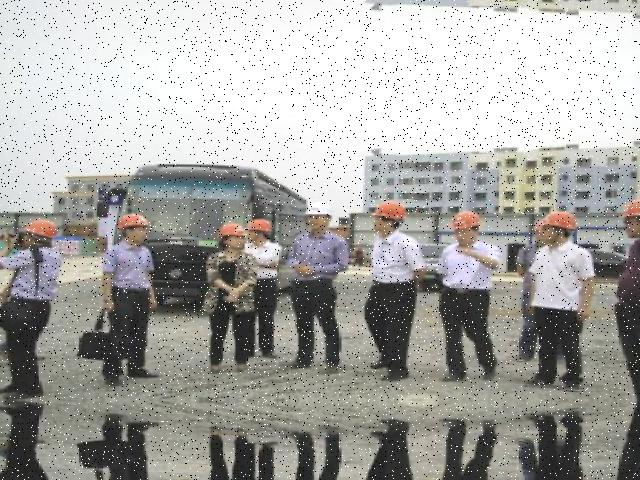Helmet: (538, 206, 584, 238), (20, 214, 66, 244), (449, 206, 487, 237), (115, 209, 155, 237), (371, 199, 411, 226), (303, 199, 341, 224), (217, 218, 250, 242), (246, 212, 276, 237)
